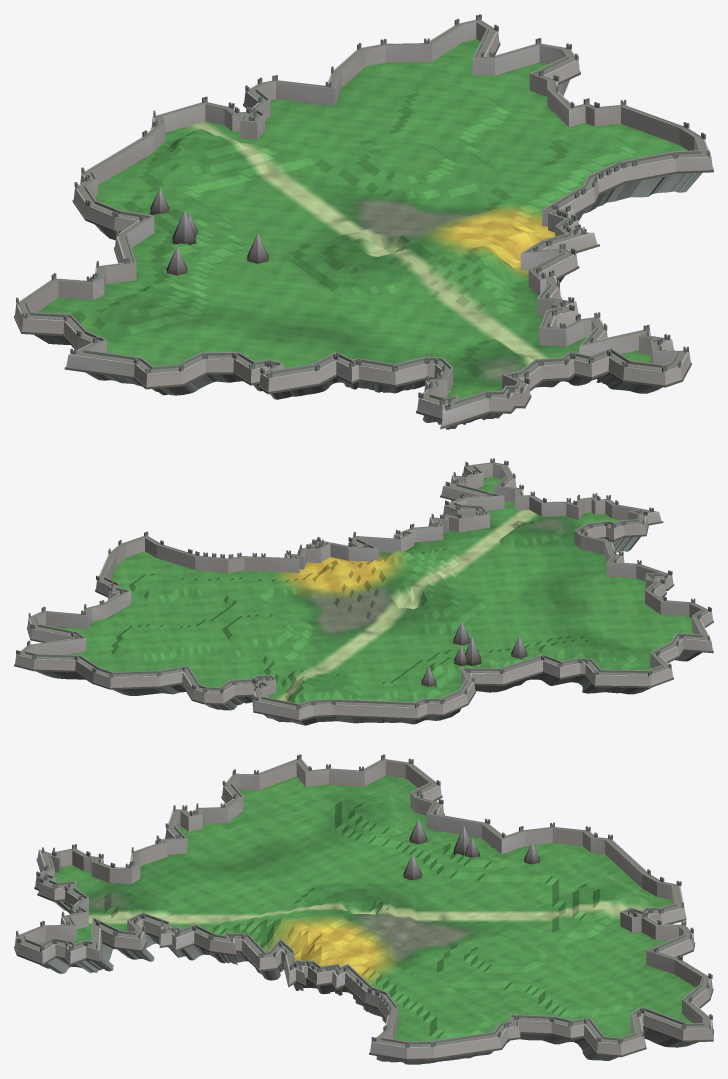
3 views of the same model, one above another, from view 1: azimuth 30°, elevation 25°; view 2: azimuth 150°, elevation 25°; view 3: azimuth 270°, elevation 25° (orthographic). The views are drawn at different scales.
Parts seen in each view (by area): view 1: ground_c64a02f0; view 2: ground_c64a02f0; view 3: ground_c64a02f0.
Boxes of the visible parts, x1,y1,x2,y2 form: ground_c64a02f0: (14, 14, 713, 429); ground_c64a02f0: (14, 458, 713, 725); ground_c64a02f0: (14, 754, 713, 1064).
Size of the model in its own units: 153 by 11.5 by 155.
3 materials, 1 textured.
